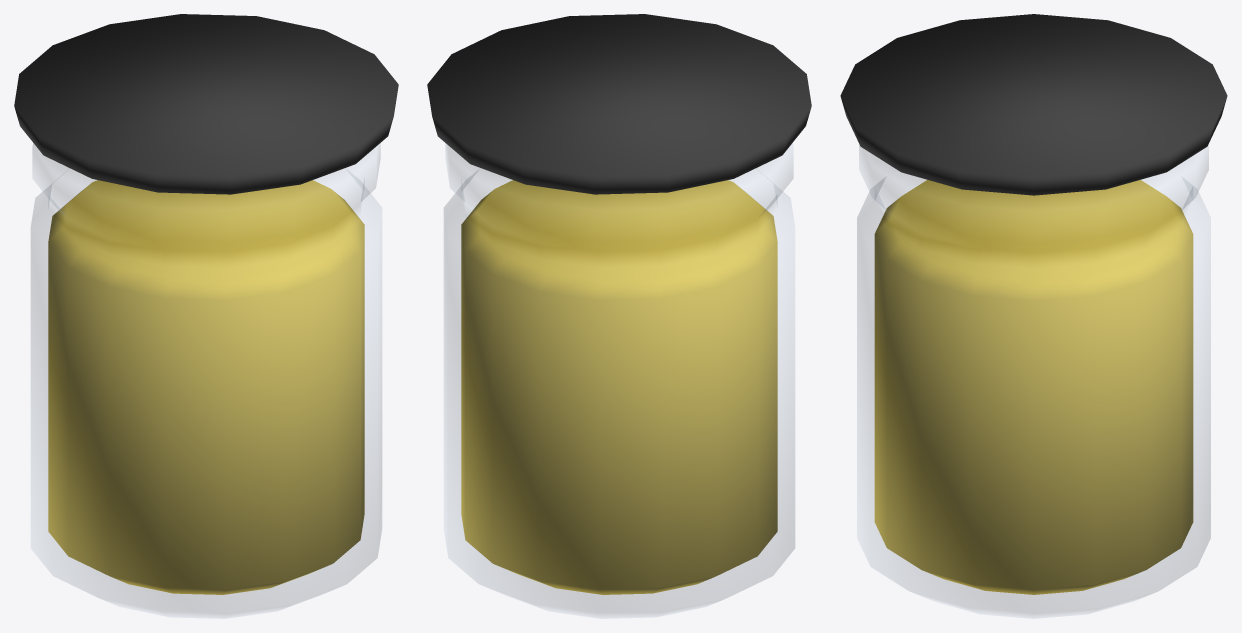
File: bottle_lightfuel.glb
The picture shows the model from 3 angles, left to right: view 1: azimuth 30°, elevation 25°; view 2: azimuth 150°, elevation 25°; view 3: azimuth 270°, elevation 25°; orthographic projection.
Parts seen in each view (by area): view 1: Props.bottle_lightfuel; view 2: Props.bottle_lightfuel; view 3: Props.bottle_lightfuel.
Part boxes in pixels (box(x1,y1,x2,y2)): Props.bottle_lightfuel: box(14, 14, 398, 618); Props.bottle_lightfuel: box(427, 14, 811, 618); Props.bottle_lightfuel: box(840, 14, 1227, 618).
Bounding box in the file's own units: 0.1094 × 0.1445 × 0.1094.
